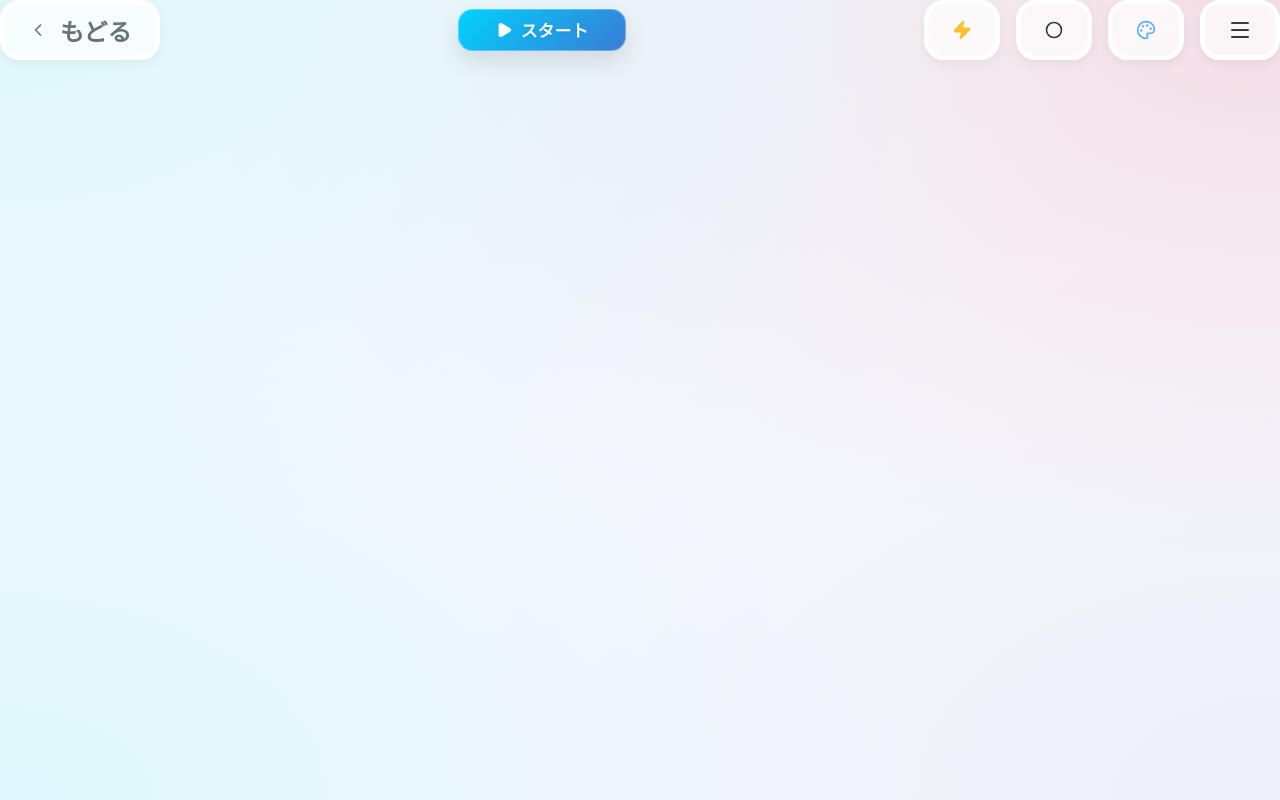
Scenario: MainTimerHeaderControls › コンパクト表示（isCompact=true）であっても、すでにふたりモード（isSiblingMode=true）なら「ひとりモードにもどす」が表示されること
This screenshot has width=1280, height=800.
 メニューを開く
Click the button named "メニューをひらく". click: (1240, 30)
box: [1200,0,1279,60]
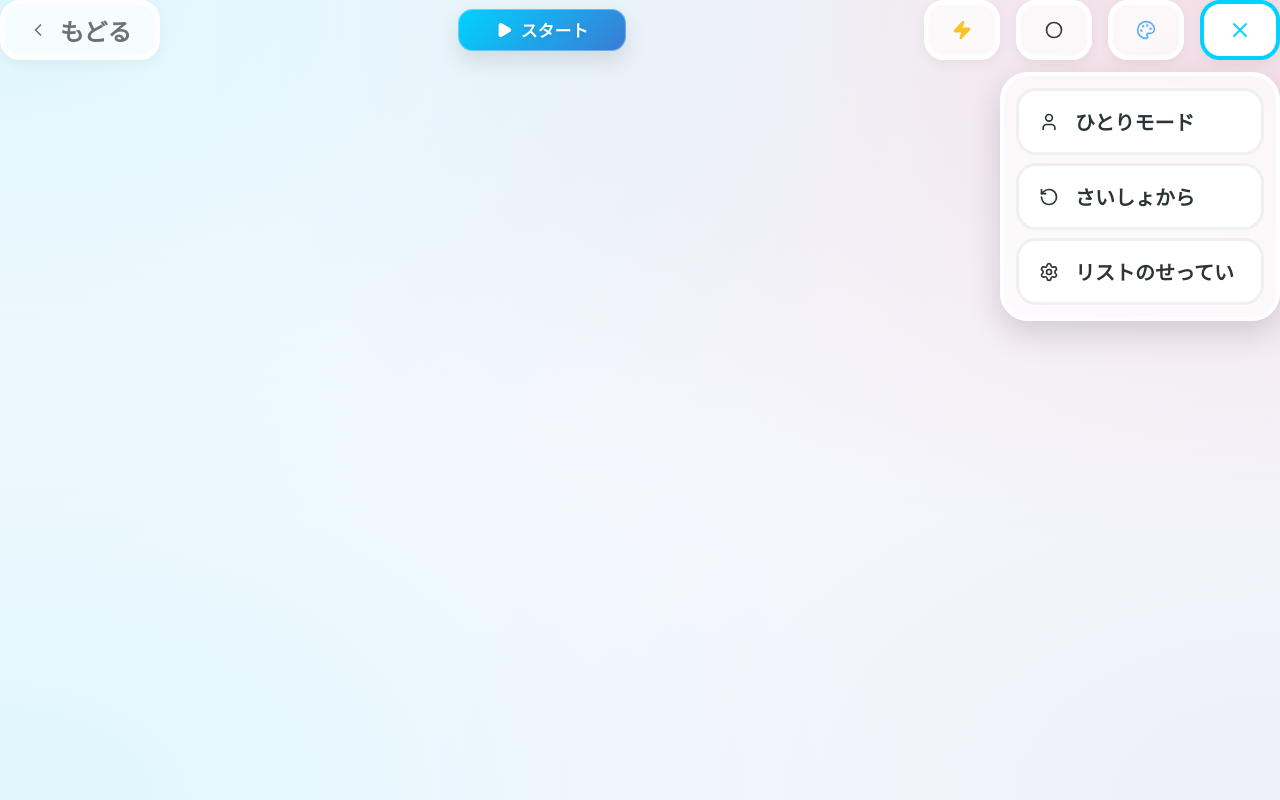
Expected: the button with aria-label "ひとりモードにもどす" is shown, [1016,88,1264,155]
